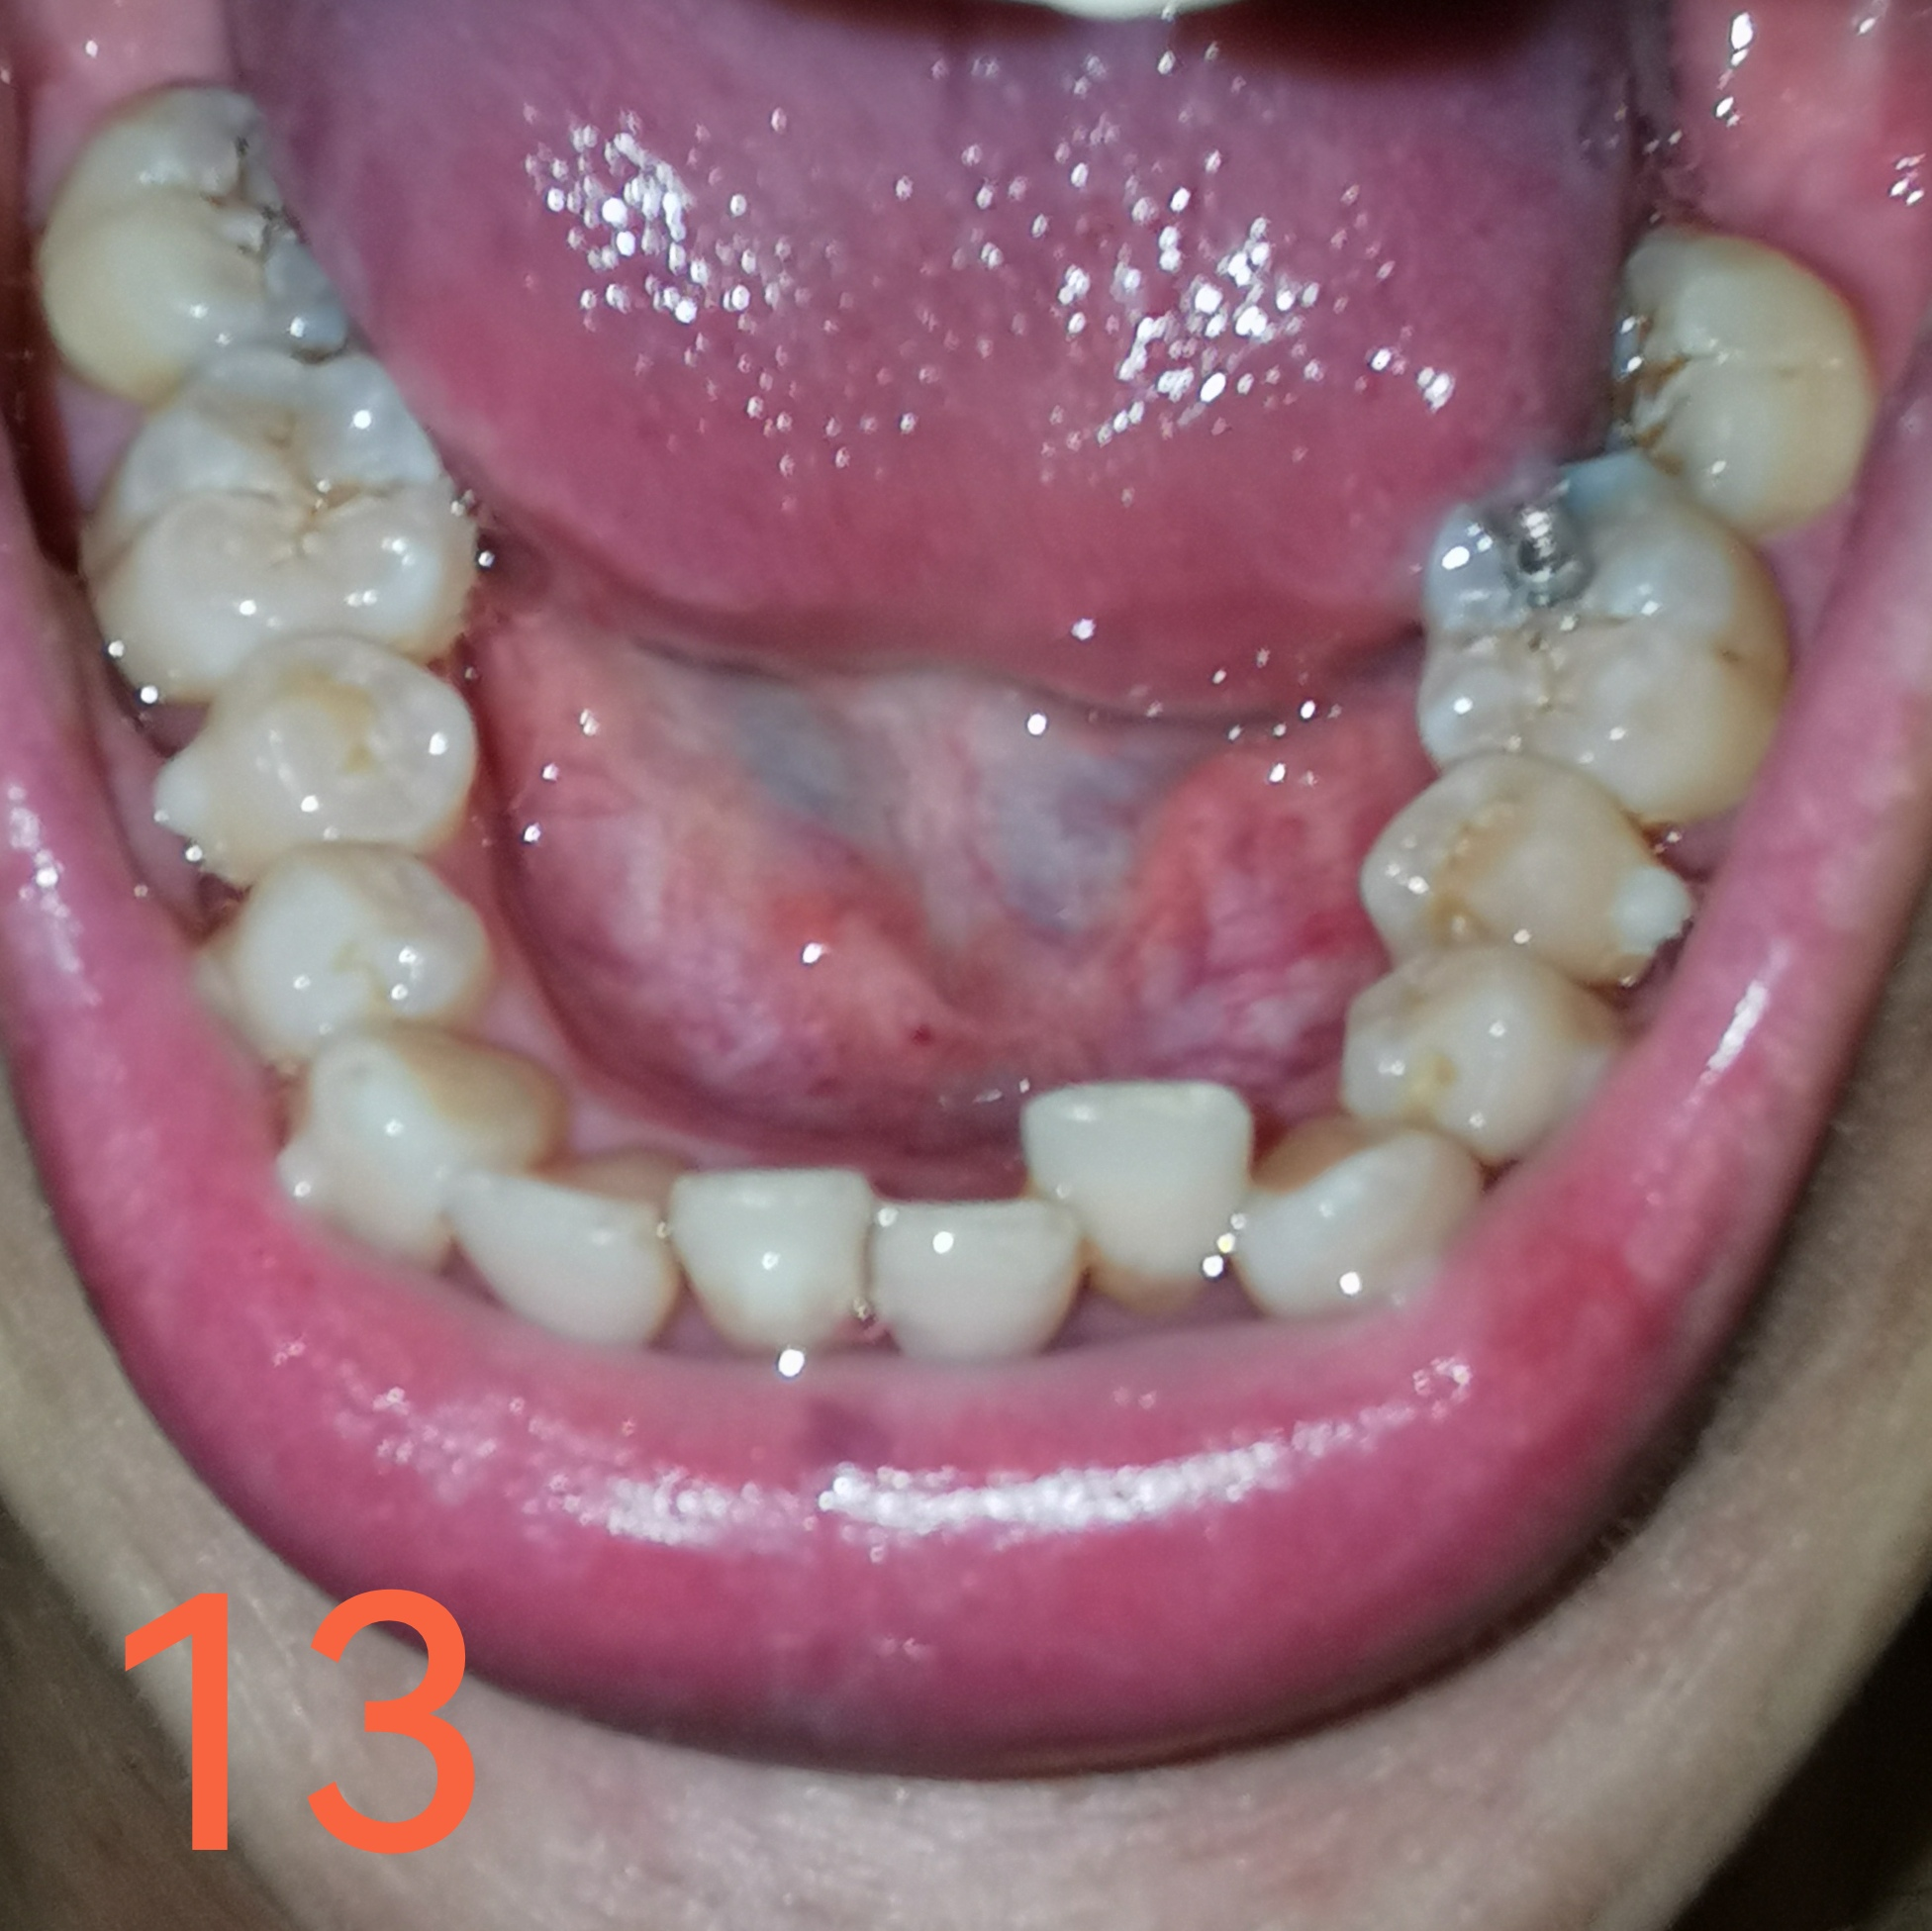teeth: (97, 368, 493, 725), (1409, 477, 1806, 801), (51, 81, 366, 400), (1626, 226, 1905, 550), (152, 649, 521, 891), (1377, 760, 1690, 981), (223, 866, 504, 1080), (283, 1042, 550, 1266), (1350, 964, 1623, 1167), (445, 1135, 679, 1363), (1016, 1088, 1257, 1305), (1218, 1112, 1472, 1303), (684, 1171, 863, 1362), (870, 1206, 1071, 1358)
